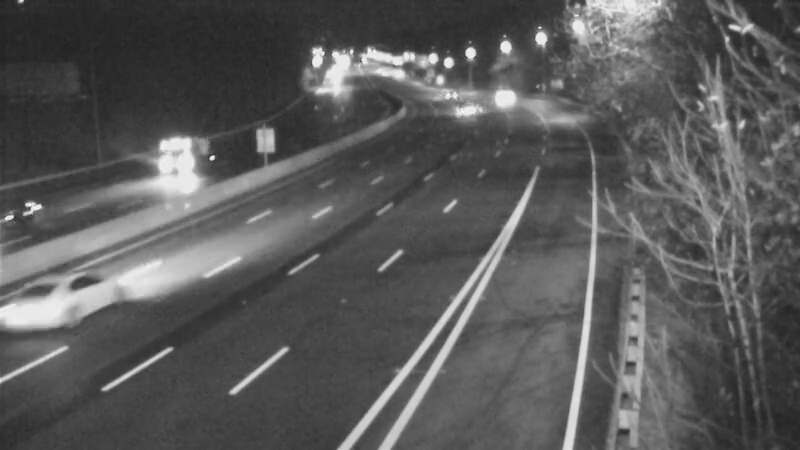vehicle: (6, 257, 86, 337), (129, 123, 209, 203), (1, 174, 64, 254), (371, 50, 421, 100), (474, 74, 524, 124), (424, 71, 474, 121), (440, 85, 490, 135)
